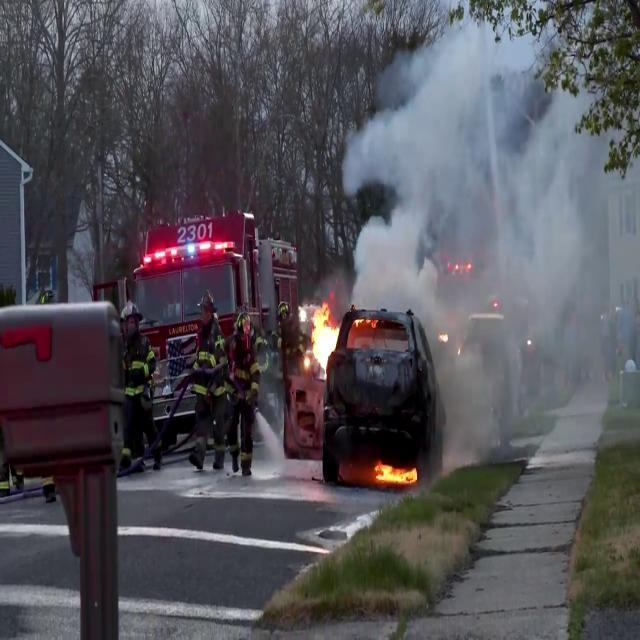Fire: (299, 291, 342, 374), (365, 454, 417, 494)
Smoke: (343, 10, 639, 318), (438, 16, 640, 464)
